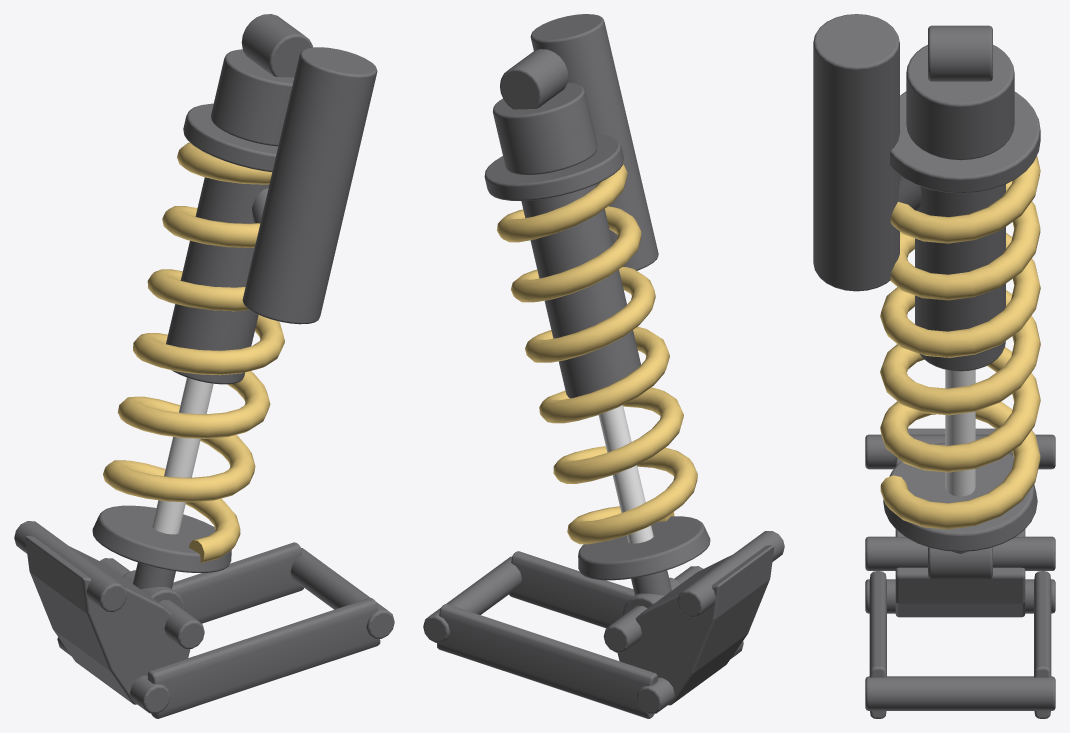
Rendered from bike_superbike__rear_shock.glb.
3 renders of one model, left to right at view 1: azimuth 30°, elevation 25°; view 2: azimuth 150°, elevation 25°; view 3: azimuth 270°, elevation 25°, orthographic. The views are drawn at different scales.
Parts seen in each view (by area): view 1: chassis__rear_shock__body, chassis__rear_suspension_linkage, chassis__rear_shock__spring, chassis__rear_shock__shaft; view 2: chassis__rear_shock__body, chassis__rear_suspension_linkage, chassis__rear_shock__spring, chassis__rear_shock__shaft; view 3: chassis__rear_shock__body, chassis__rear_shock__spring, chassis__rear_suspension_linkage, chassis__rear_shock__shaft.
Part boxes in pixels (<box>): chassis__rear_shock__body: <box>92,14,377,610</box>; chassis__rear_suspension_linkage: <box>14,521,394,718</box>; chassis__rear_shock__spring: <box>103,142,284,563</box>; chassis__rear_shock__shaft: <box>152,377,213,534</box>; chassis__rear_shock__body: <box>484,14,710,615</box>; chassis__rear_suspension_linkage: <box>423,531,784,718</box>; chassis__rear_shock__spring: <box>497,163,697,544</box>; chassis__rear_shock__shaft: <box>598,405,653,543</box>; chassis__rear_shock__body: <box>813,14,1040,579</box>; chassis__rear_shock__spring: <box>880,155,1040,529</box>; chassis__rear_suspension_linkage: <box>865,428,1055,718</box>; chassis__rear_shock__shaft: <box>945,369,975,496</box>.
Bounding box in the file's own units: 17.28 × 34.9 × 11.2.
